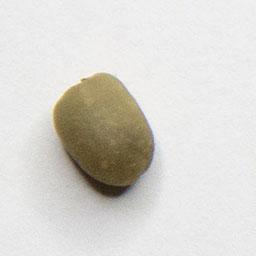peaberry: (48, 67, 159, 190)
